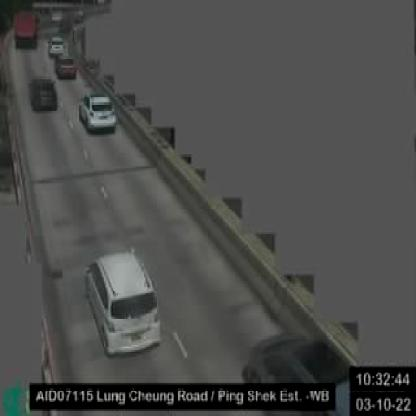Car: (85, 246, 161, 352), (76, 92, 116, 132), (26, 75, 58, 109), (55, 55, 79, 80), (48, 36, 64, 54)
